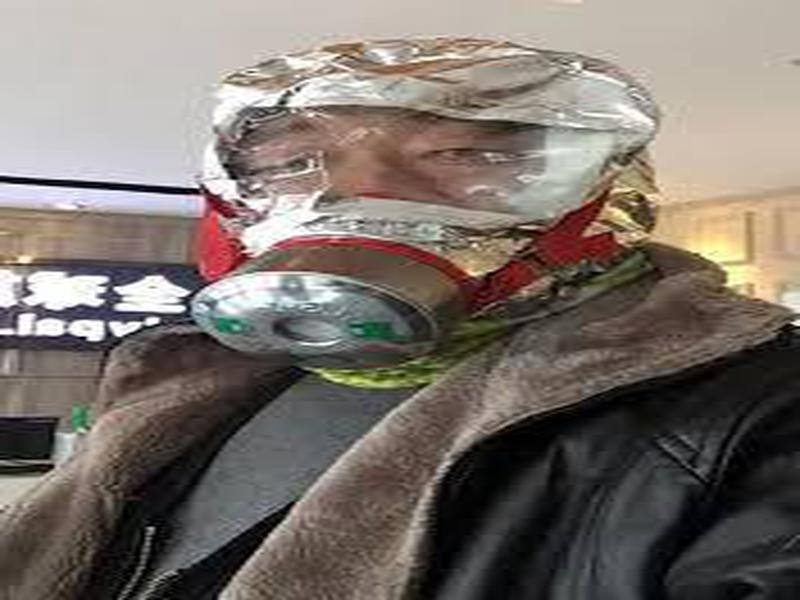with_mask: (195, 40, 664, 392)
